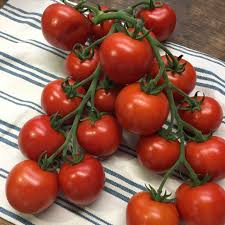tomato: (6, 160, 58, 218), (114, 83, 169, 137), (97, 34, 153, 83), (57, 153, 105, 207), (41, 4, 89, 51), (18, 114, 66, 161), (41, 79, 90, 123), (136, 132, 184, 176), (78, 116, 124, 159), (177, 183, 224, 224), (126, 189, 179, 224), (153, 58, 196, 101), (178, 94, 222, 132), (186, 137, 223, 181), (137, 5, 176, 42), (66, 47, 101, 84), (84, 6, 122, 39), (90, 85, 123, 112)
